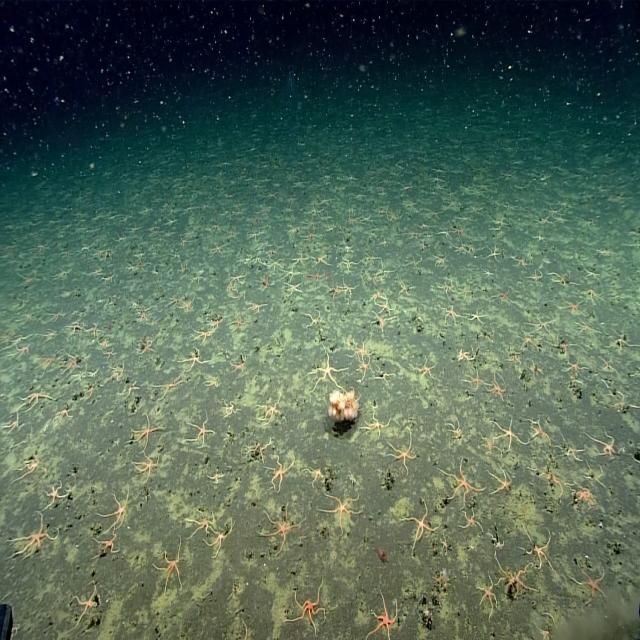brittle-stars: (15, 513, 61, 554), (262, 508, 298, 554), (402, 499, 434, 548), (442, 460, 476, 505), (293, 581, 324, 629), (369, 591, 398, 640), (522, 522, 552, 568), (574, 560, 607, 601), (322, 494, 362, 526), (157, 542, 183, 591), (500, 562, 536, 593), (266, 453, 295, 491), (312, 351, 342, 386), (72, 580, 100, 614), (204, 524, 232, 558), (188, 410, 213, 448), (388, 435, 415, 470), (494, 417, 520, 453), (132, 413, 161, 445), (478, 574, 498, 616), (106, 488, 128, 526), (187, 509, 215, 537), (363, 408, 390, 436), (488, 466, 512, 496), (590, 432, 617, 458), (47, 477, 70, 507), (20, 386, 51, 408), (257, 398, 283, 424), (96, 528, 119, 557), (560, 437, 583, 466), (136, 452, 158, 481), (182, 346, 207, 371), (574, 480, 594, 509), (488, 376, 508, 402), (529, 313, 552, 335), (21, 453, 43, 475), (468, 367, 486, 392), (457, 345, 477, 367), (61, 351, 81, 372), (564, 356, 585, 376), (463, 510, 482, 532), (356, 359, 374, 382), (562, 296, 582, 316), (576, 318, 597, 337), (229, 311, 247, 333), (441, 303, 459, 324), (418, 359, 436, 378), (284, 280, 304, 297), (338, 255, 358, 272), (138, 337, 155, 357), (14, 339, 31, 359), (223, 398, 239, 419), (194, 326, 212, 344), (353, 342, 371, 360), (378, 297, 394, 317), (526, 268, 544, 285), (179, 296, 195, 314), (469, 307, 485, 325), (56, 406, 73, 422), (247, 299, 264, 315), (282, 267, 300, 282), (513, 252, 528, 270), (496, 286, 511, 304), (398, 279, 412, 298), (342, 281, 357, 298), (439, 533, 450, 556), (487, 245, 501, 263), (440, 280, 454, 298), (310, 270, 325, 286), (292, 252, 308, 267), (311, 254, 328, 268), (261, 275, 273, 292), (211, 242, 224, 257), (304, 229, 318, 241), (101, 336, 110, 349), (484, 267, 494, 278)
